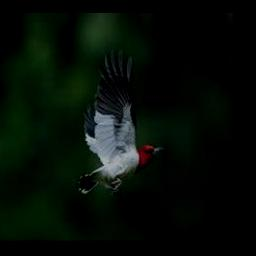Woodpecker: (74, 48, 164, 194)
